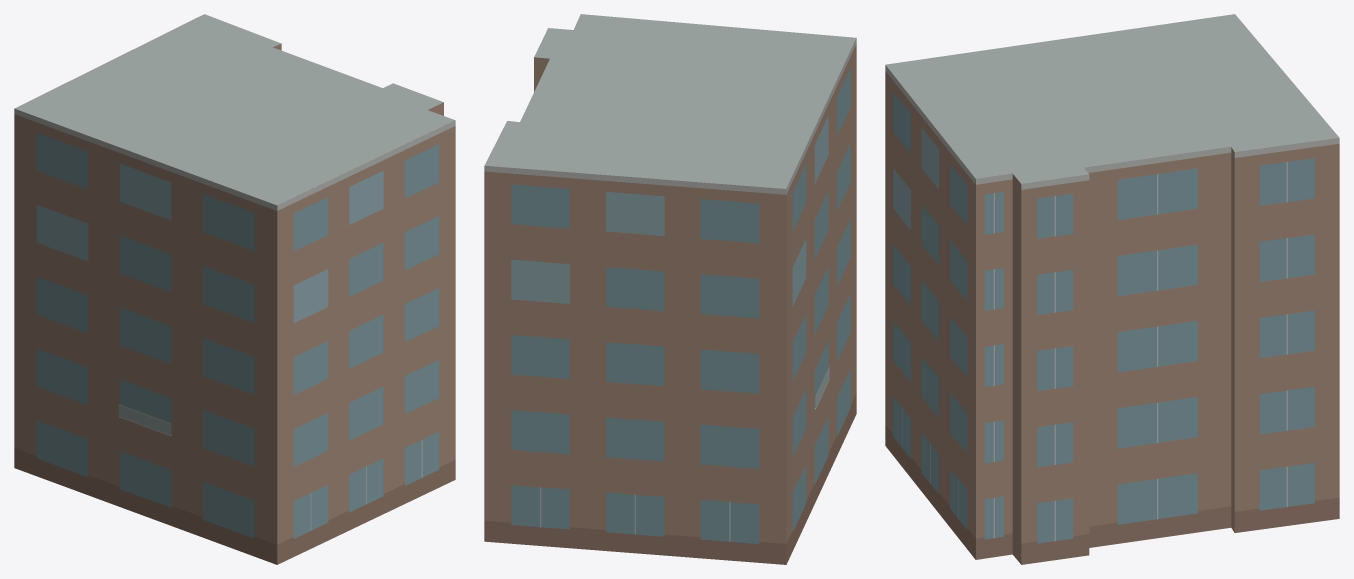
The model's file is survey-upis-32997696.glb.
The picture shows the model from 3 angles, left to right: view 1: azimuth 30°, elevation 25°; view 2: azimuth 150°, elevation 25°; view 3: azimuth 270°, elevation 25°; orthographic projection. The views are drawn at different scales.
Parts seen in each view (by area): view 1: survey-upis-32997696.tmp; view 2: survey-upis-32997696.tmp; view 3: survey-upis-32997696.tmp.
Boxes of the visible parts, <box> form: survey-upis-32997696.tmp: <box>14,14,455,564</box>; survey-upis-32997696.tmp: <box>484,14,856,564</box>; survey-upis-32997696.tmp: <box>885,14,1339,564</box>.
Bounding box in the file's own units: 15.13 × 15.8 × 17.09.
